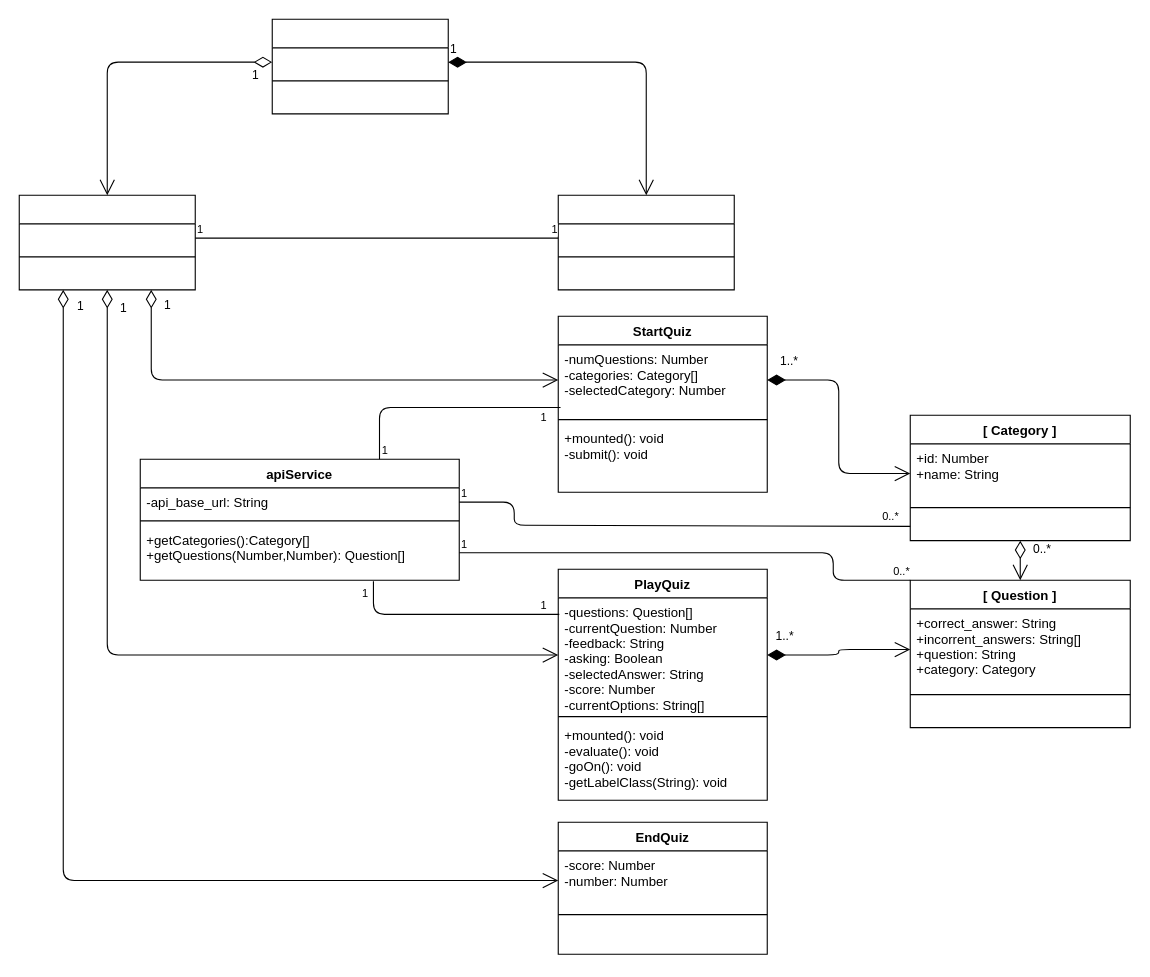
This 1150x977 diagram has some shape labels left out. Here are the shapes that lost their labels. From the top down, the centre of each, then its label:
the point at 359,66: main
the point at 106,242: router
the point at 645,242: App
